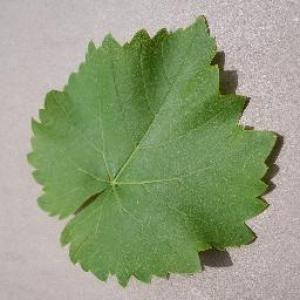Folha: (26, 14, 279, 287)
